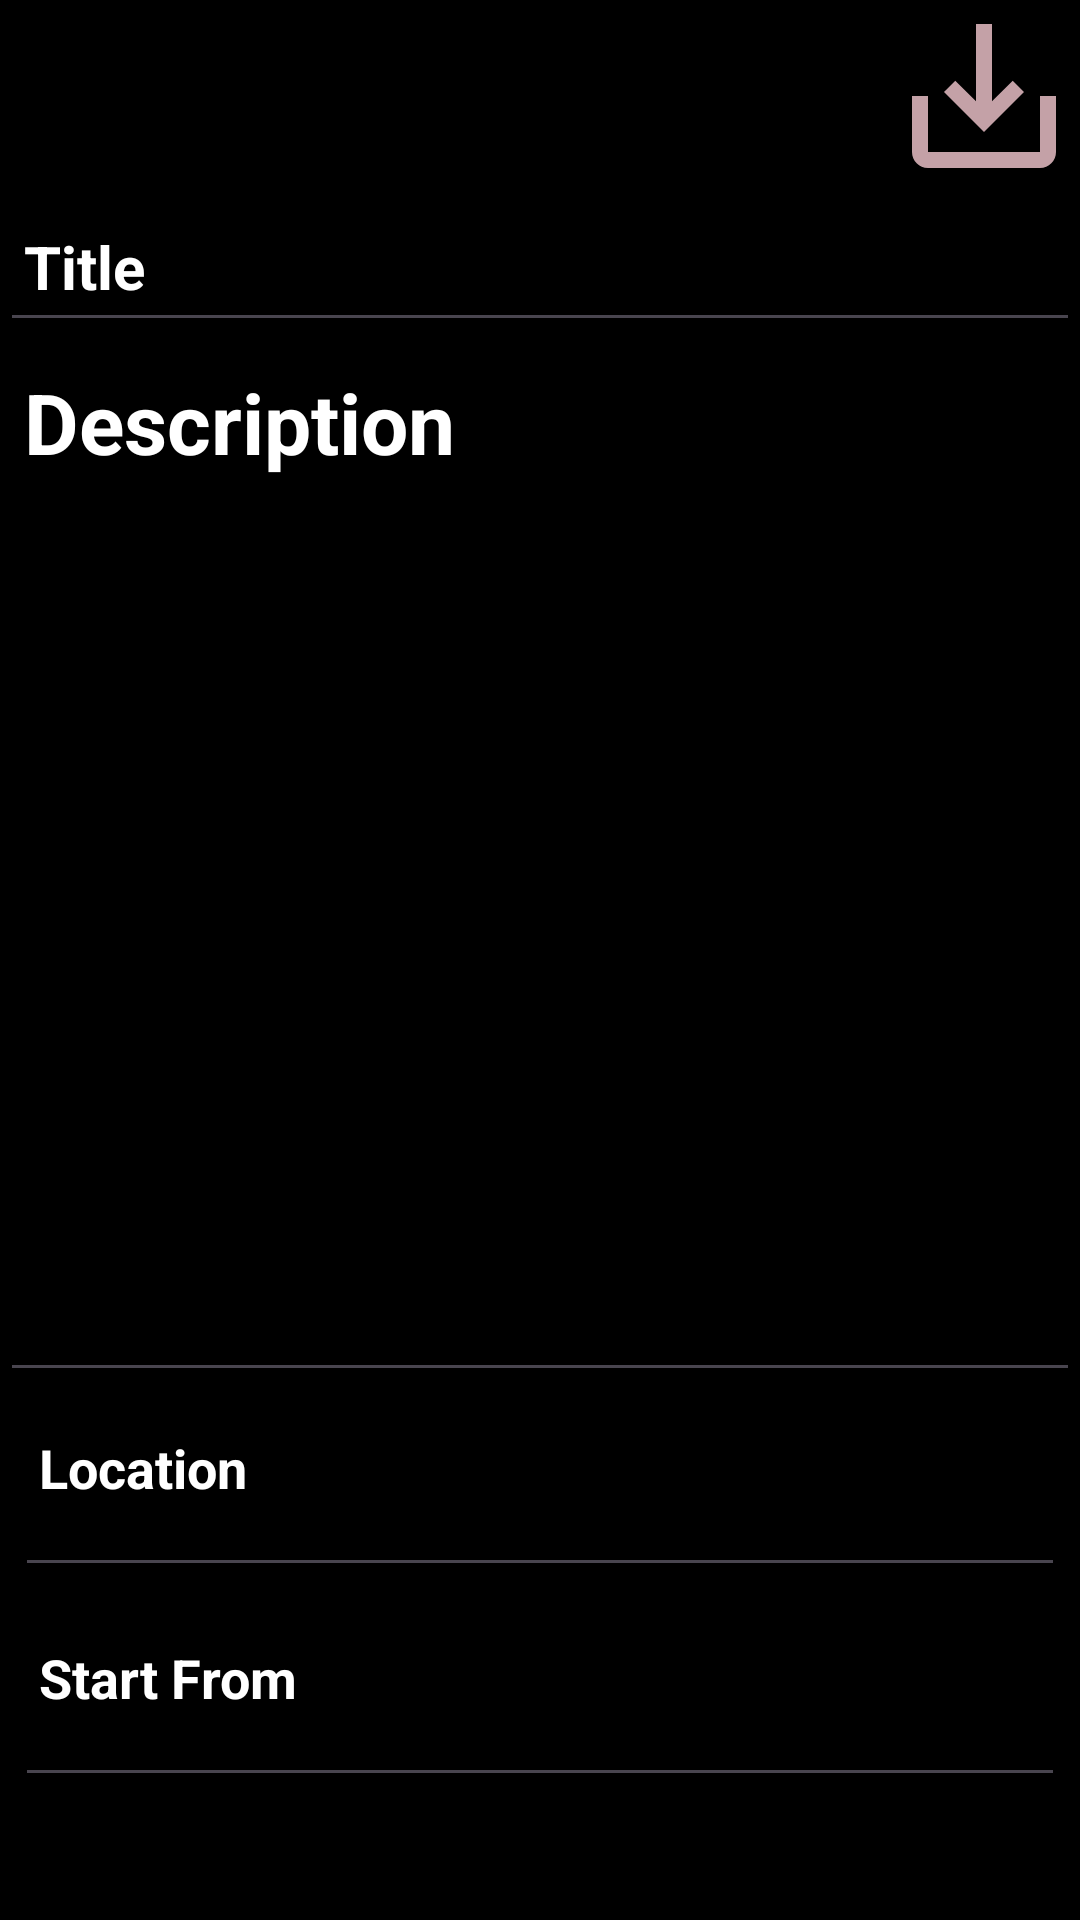

Icons on this 1080px x 1920px Android screen, each with the point to tap as (x=x, y=y):
save: (x=984, y=96)
